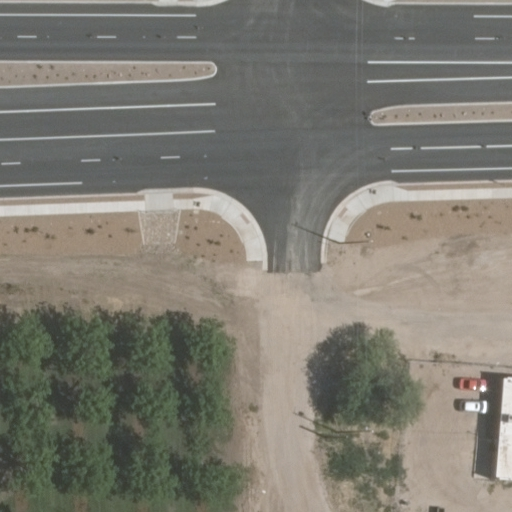DT: (336, 227, 380, 253), (333, 420, 377, 441)
